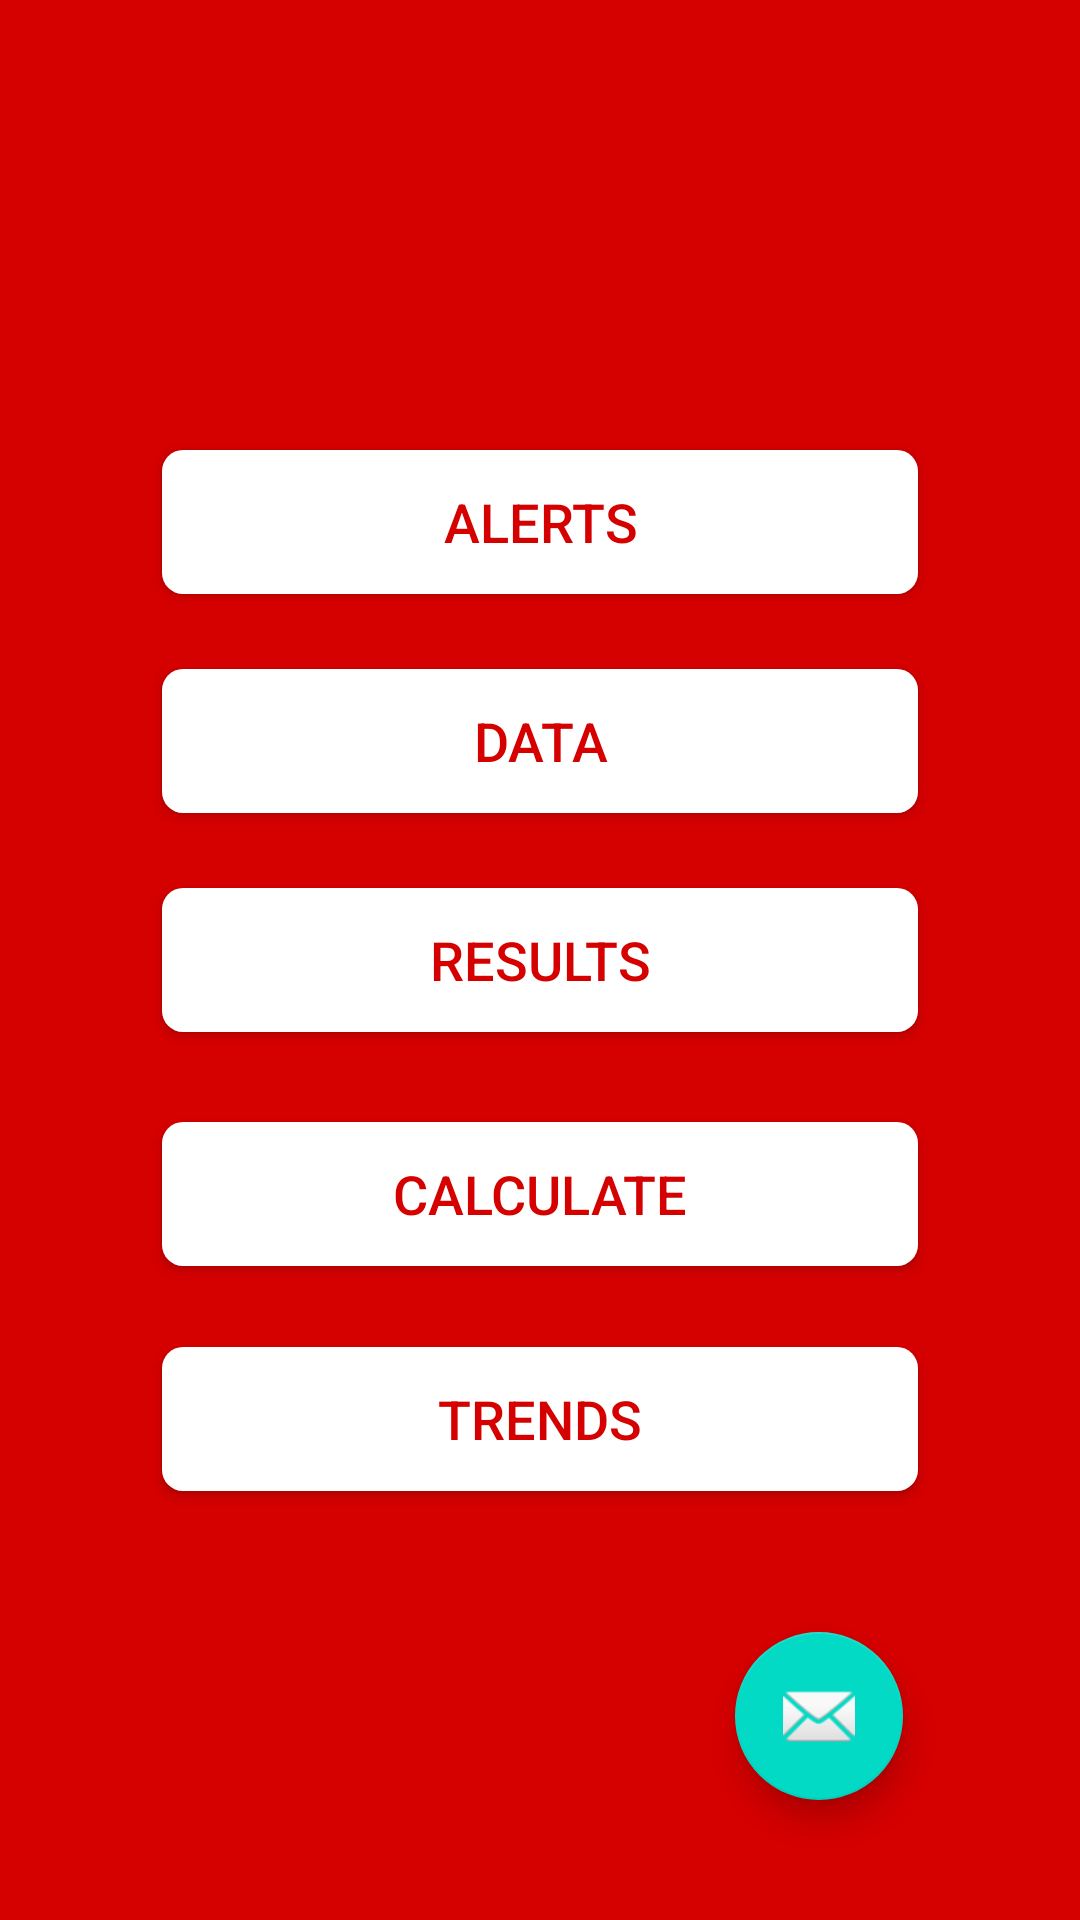

Icon bounding boxes for this 1080x1920 phone screenshot, format (x1, y1, x2, y2):
email: (735, 1632, 903, 1800)
